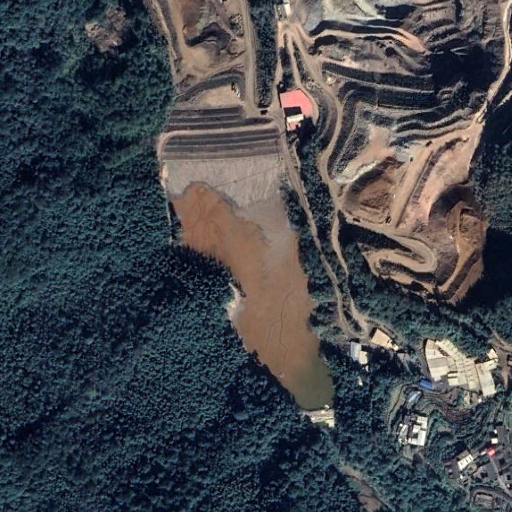tp: (152, 123, 337, 411)
